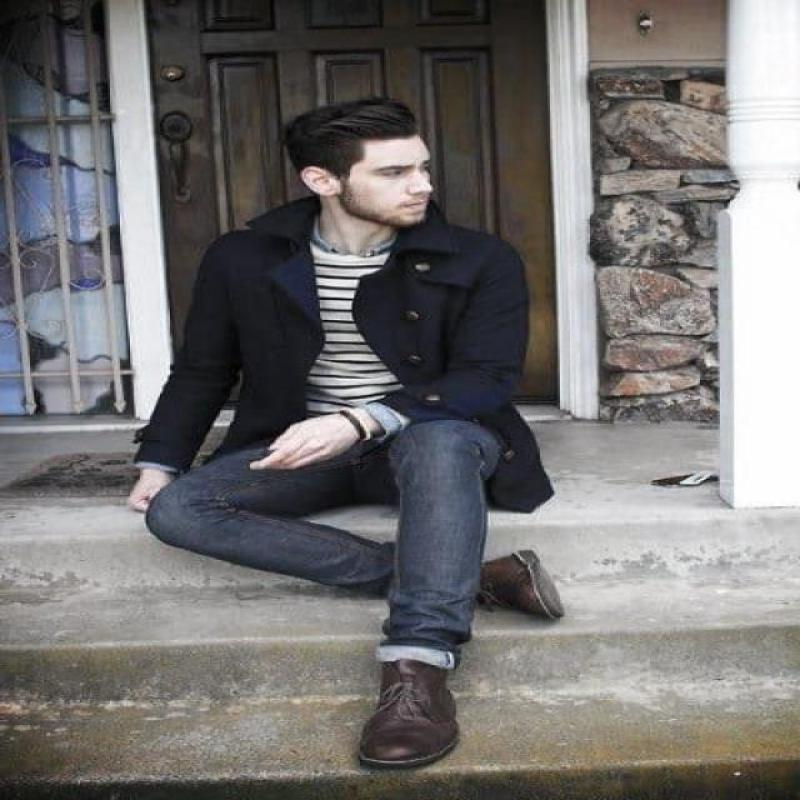jacket: (130, 196, 561, 512)
sweater: (292, 248, 403, 431)
trousers: (141, 419, 504, 676)
